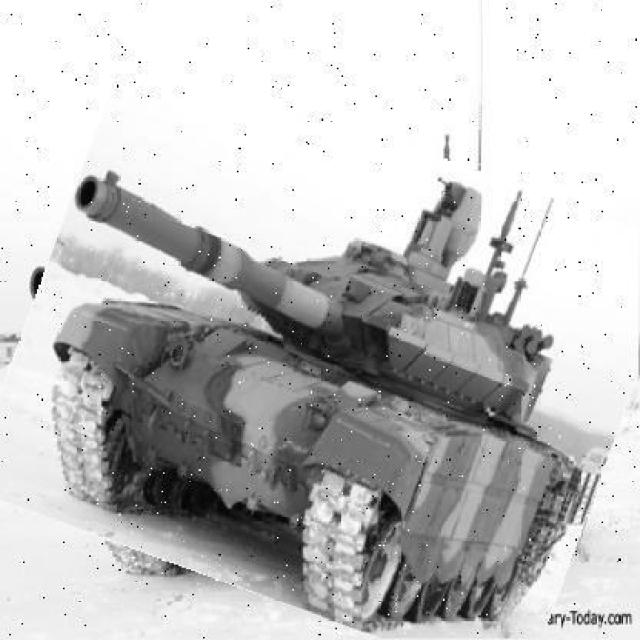Tank: (1, 87, 639, 639)
